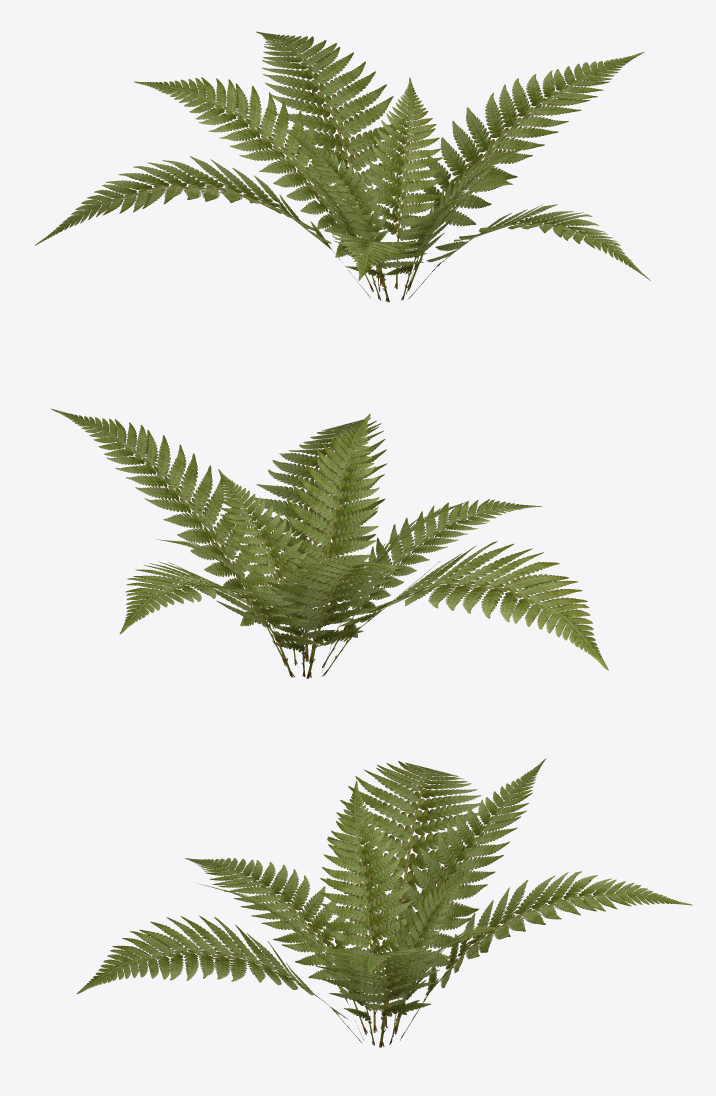
The model's file is fern_medium_b_lod0.gltf.
3 views of the same model, one above another, from view 1: azimuth 30°, elevation 25°; view 2: azimuth 150°, elevation 25°; view 3: azimuth 270°, elevation 25° (orthographic). The views are drawn at different scales.
Parts seen in each view (by area): view 1: fern_medium_b_LOD0; view 2: fern_medium_b_LOD0; view 3: fern_medium_b_LOD0.
Part boxes in pixels (x1,y1,x2,y2): fern_medium_b_LOD0: (34,31,650,302); fern_medium_b_LOD0: (51,408,608,678); fern_medium_b_LOD0: (76,758,692,1047).
Size of the model in its own units: 1.74 by 0.5873 by 1.68.
1 material, 1 textured.
